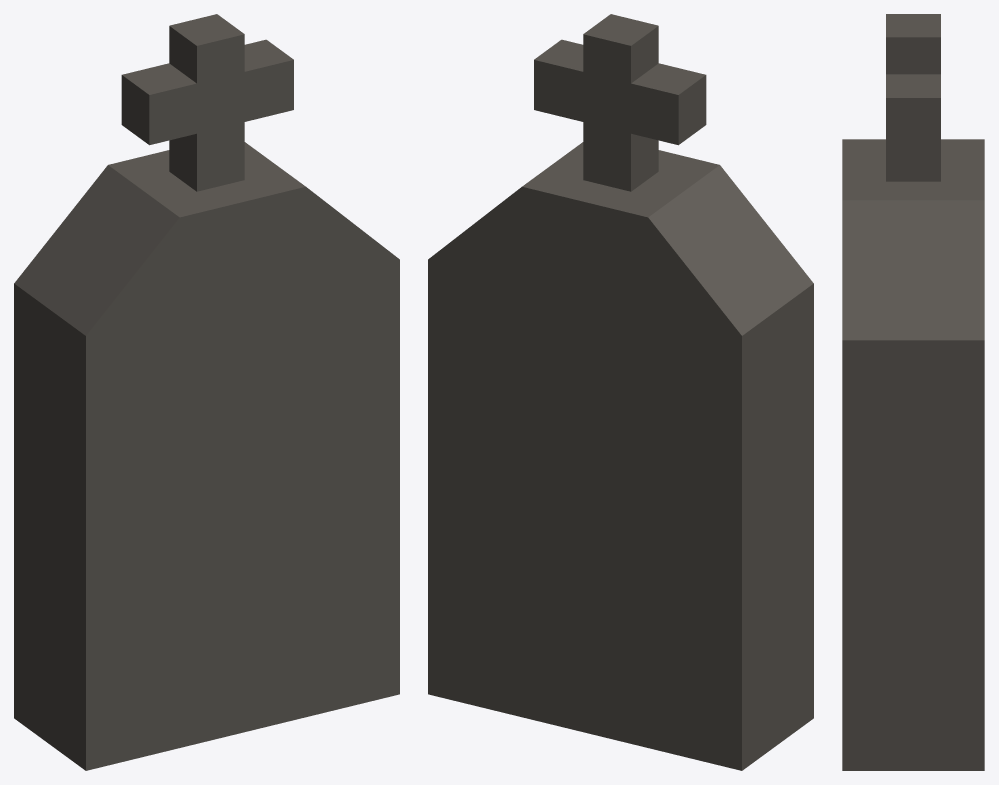
File: 3d-fullana-bernat-lapida.glb
The picture shows the model from 3 angles, left to right: view 1: azimuth 30°, elevation 25°; view 2: azimuth 150°, elevation 25°; view 3: azimuth 270°, elevation 25°; orthographic projection.
Visible parts, largest first — view 1: Cube.002; view 2: Cube.002; view 3: Cube.002.
Boxes of the visible parts, box(x1,y1,x2,y2) form: Cube.002: box(14, 14, 399, 770); Cube.002: box(428, 14, 813, 770); Cube.002: box(842, 14, 984, 770).
Bounding box in the file's own units: 0.4151 × 0.8547 × 0.1645.
Materials: 1 (1 with a texture image).
